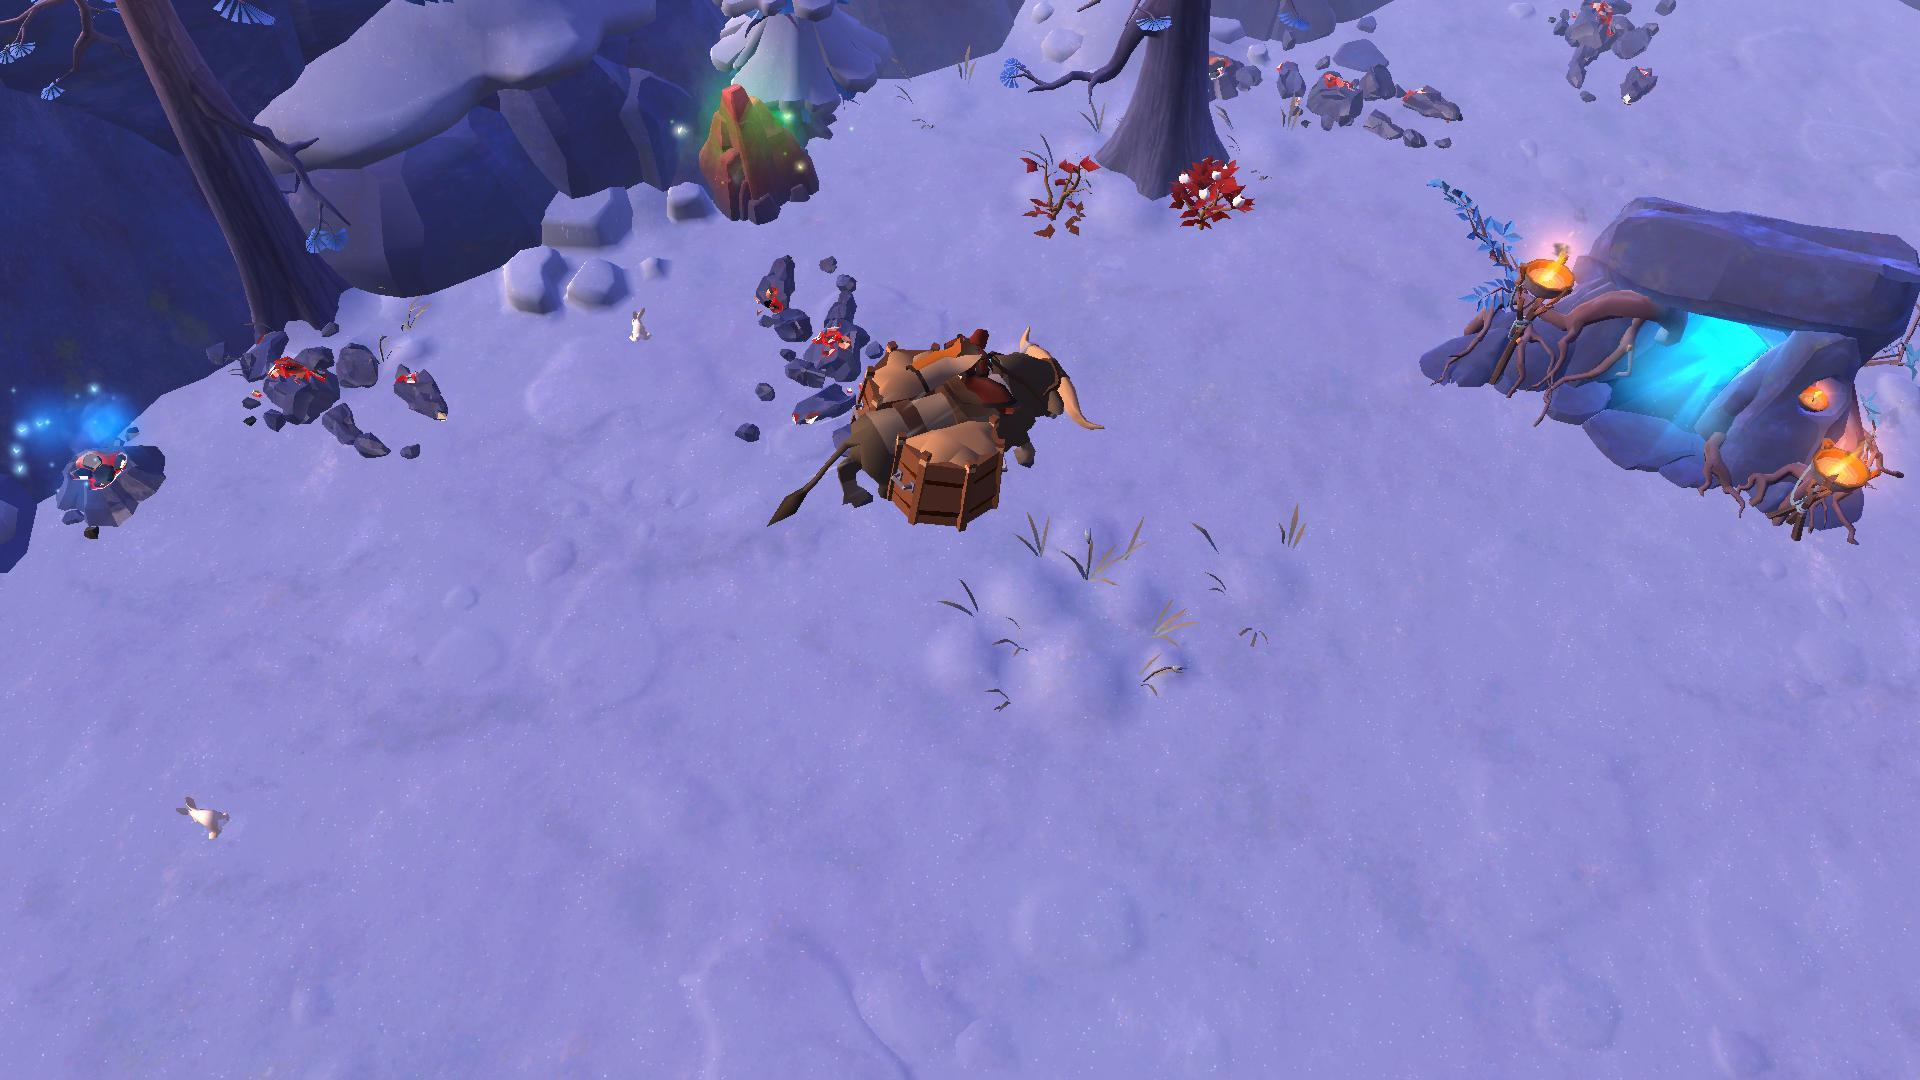fiber_t5: (1162, 153, 1258, 233)
rock_t5: (688, 79, 820, 222)
